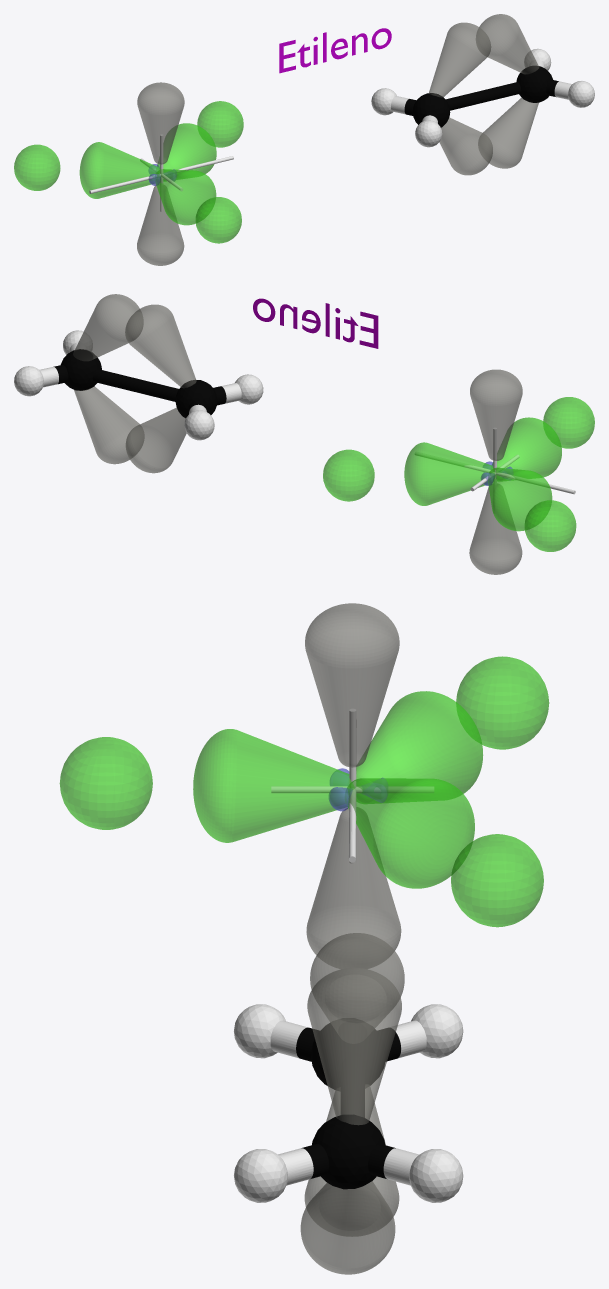
File: etileno_sp2.glb
3 views of the same model, one above another, from view 1: azimuth 30°, elevation 25°; view 2: azimuth 150°, elevation 25°; view 3: azimuth 270°, elevation 25° (orthographic). The views are drawn at different scales.
Visible parts, largest first — view 1: suborbital p.003, suborbital p.007, suborbital p.016, suborbital p.009, suborbital p.001, suborbital p.008, suborbital p.010, suborbital p.005, suborbital p.015, Sphere.002, Sphere.001, Sphere (+7 smaller); view 2: suborbital p.005, suborbital p.016, suborbital p.003, suborbital p.009, suborbital p.001, suborbital p.008, suborbital p.007, suborbital p.010, suborbital p.015, Sphere, Sphere.001, Sphere.002 (+7 smaller); view 3: suborbital p.007, suborbital p.005, suborbital p.009, suborbital p.010, suborbital p.003, suborbital p.008, suborbital p.016, suborbital p.001, Sphere, Sphere.002, Sphere.001, Shape_IndexedFaceSet.001 (+6 smaller).
Part boxes in pixels (<box>): suborbital p.003: <box>79,142,159,198</box>; suborbital p.007: <box>155,169,216,225</box>; suborbital p.016: <box>429,22,490,97</box>; suborbital p.009: <box>137,82,184,164</box>; suborbital p.001: <box>478,97,538,168</box>; suborbital p.008: <box>137,184,184,265</box>; suborbital p.010: <box>476,14,539,74</box>; suborbital p.005: <box>156,123,216,180</box>; suborbital p.015: <box>439,117,492,175</box>; Sphere.002: <box>195,197,241,243</box>; Sphere.001: <box>14,144,60,190</box>; Sphere: <box>197,101,243,147</box>; suborbital p.005: <box>404,442,494,505</box>; suborbital p.016: <box>125,304,196,388</box>; suborbital p.003: <box>488,467,552,531</box>; suborbital p.009: <box>470,369,522,460</box>; suborbital p.001: <box>74,386,144,464</box>; suborbital p.008: <box>469,484,522,574</box>; suborbital p.007: <box>491,417,561,480</box>; suborbital p.010: <box>73,294,143,361</box>; suborbital p.015: <box>125,407,186,473</box>; Sphere: <box>323,449,374,501</box>; Sphere.001: <box>524,500,576,551</box>; Sphere.002: <box>543,397,594,448</box>; suborbital p.007: <box>193,729,354,842</box>; suborbital p.005: <box>345,778,474,888</box>; suborbital p.009: <box>305,603,399,767</box>; suborbital p.010: <box>307,968,401,1125</box>; suborbital p.003: <box>348,691,483,803</box>; suborbital p.008: <box>306,807,401,968</box>; suborbital p.016: <box>310,933,404,1037</box>; suborbital p.001: <box>300,1181,395,1274</box>; Sphere: <box>451,834,543,927</box>; Sphere.002: <box>59,737,152,829</box>; Sphere.001: <box>456,656,549,749</box>; Shape_IndexedFaceSet.001: <box>234,1148,463,1202</box>.
Size of the model in its own units: 12.37 by 4.52 by 5.08.
